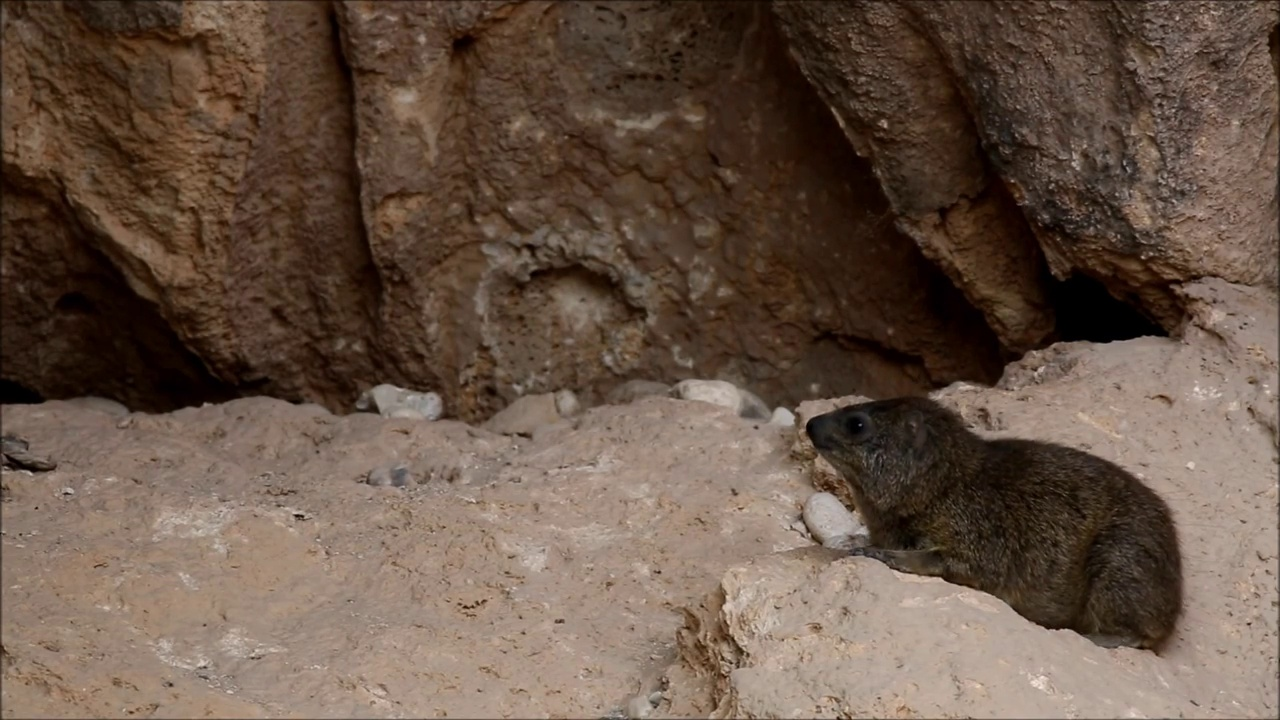Rock Hyrex: (804, 398, 1186, 656)
